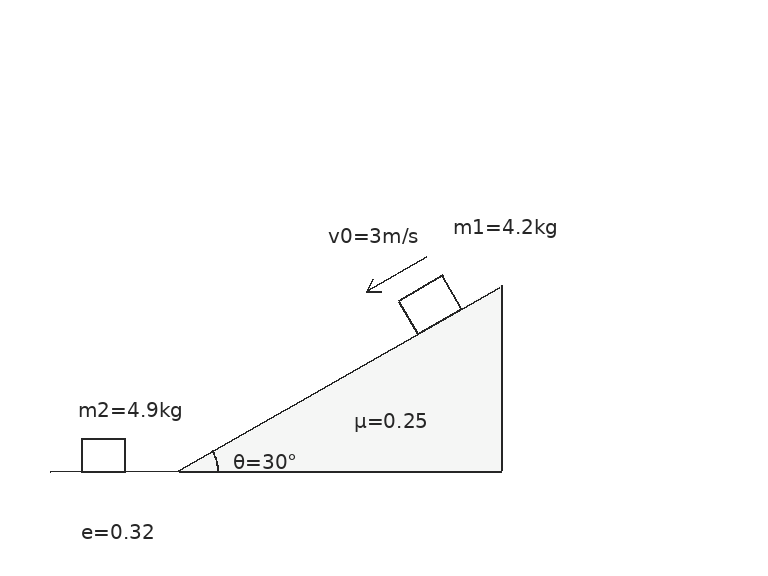block: (396, 273, 463, 335), (79, 437, 127, 473)
ramp: (176, 283, 502, 473)
